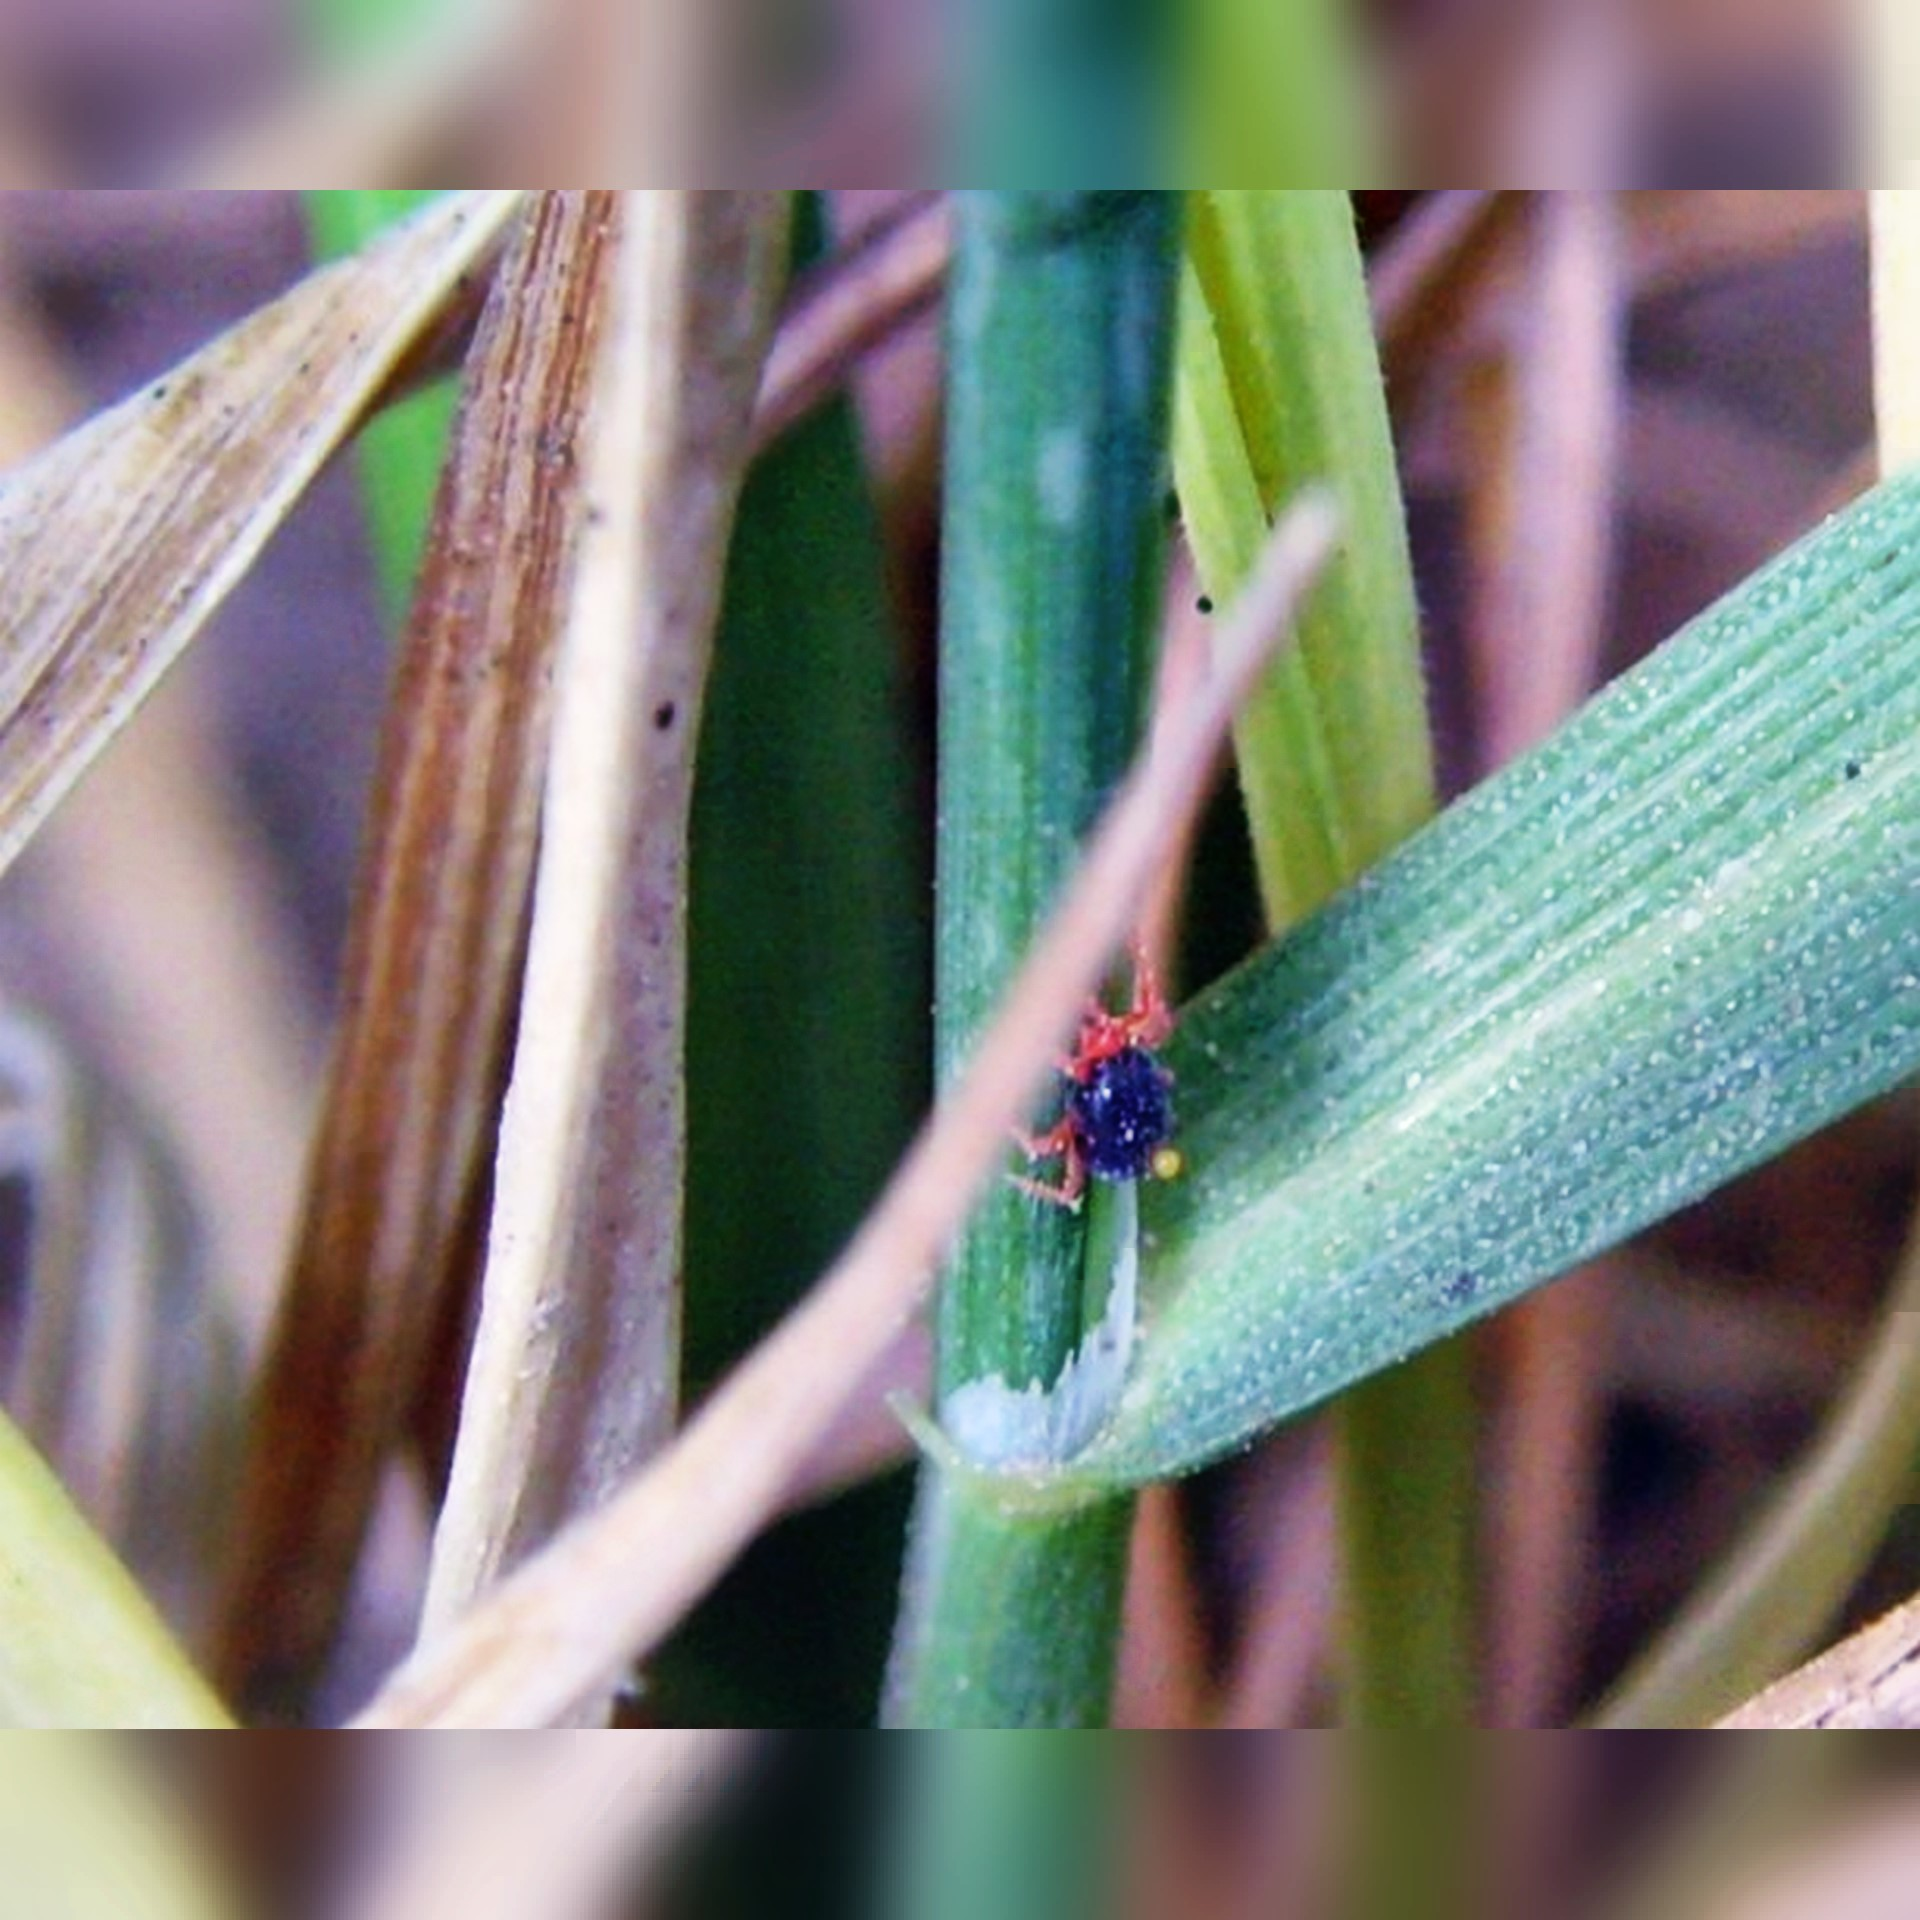Wheat Red Spider: (969, 951, 1217, 1224)
